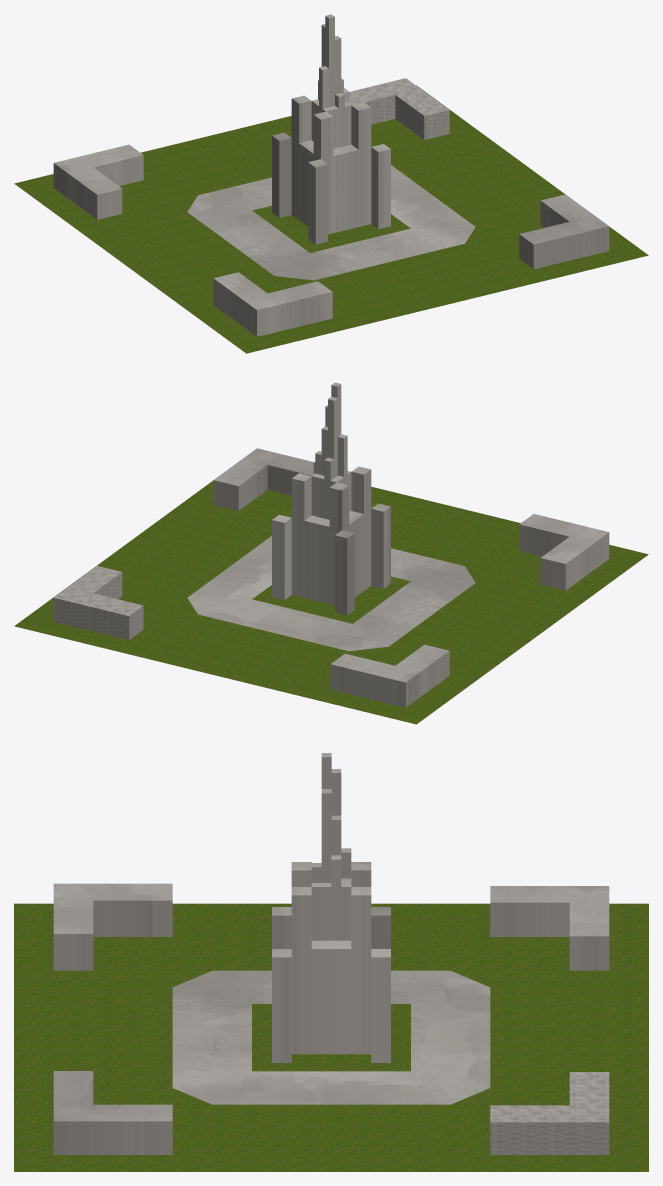
Rendered from chunkFortress.fbx.
The picture shows the model from 3 angles, top to bottom: view 1: azimuth 30°, elevation 25°; view 2: azimuth 150°, elevation 25°; view 3: azimuth 270°, elevation 25°; orthographic projection. The views are drawn at different scales.
Visible parts, largest first — view 1: Plane.001; view 2: Plane.001; view 3: Plane.001.
Boxes of the visible parts, <box> form: Plane.001: <box>14,14,648,353</box>; Plane.001: <box>14,382,648,724</box>; Plane.001: <box>14,753,648,1171</box>.
Size of the model in its own units: 3000 by 3000 by 1462.
